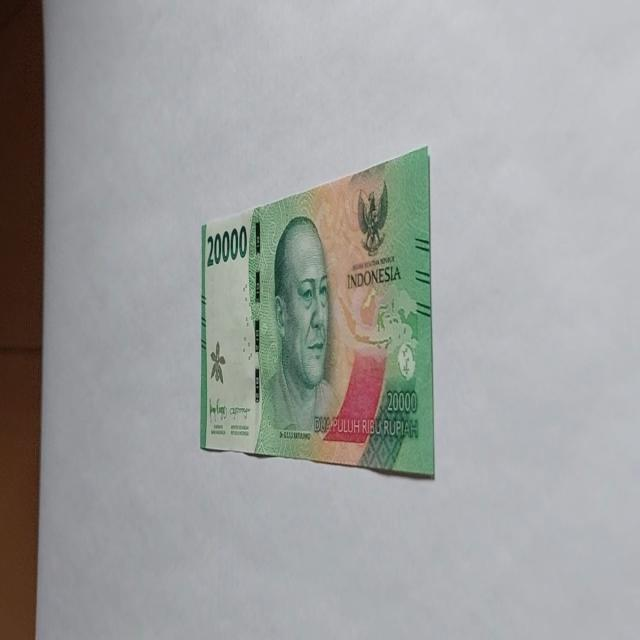dua puluh ribu rupiah: (198, 144, 436, 479), (256, 213, 343, 455)
